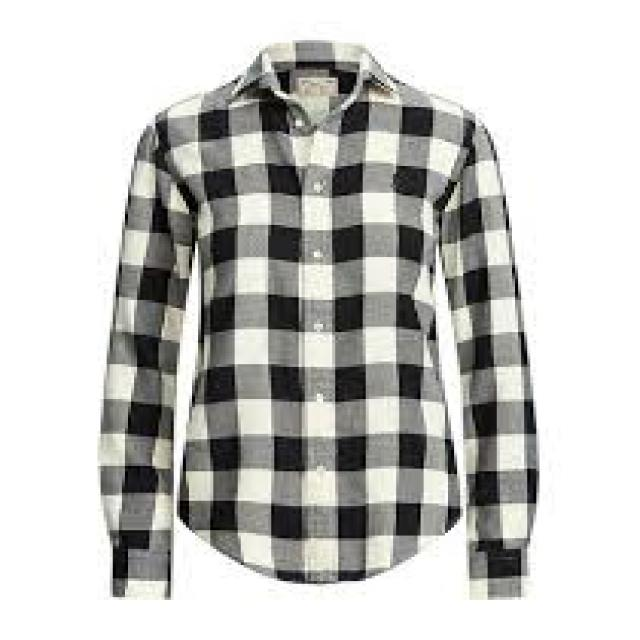plaid: (89, 25, 556, 606)
